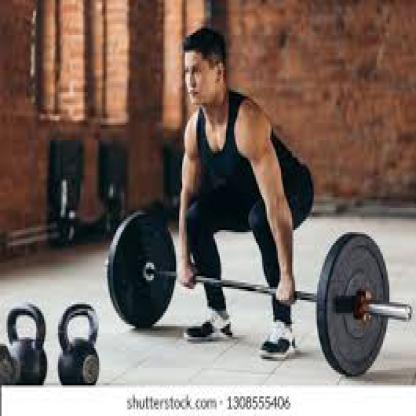Barbell: (312, 224, 396, 382)
